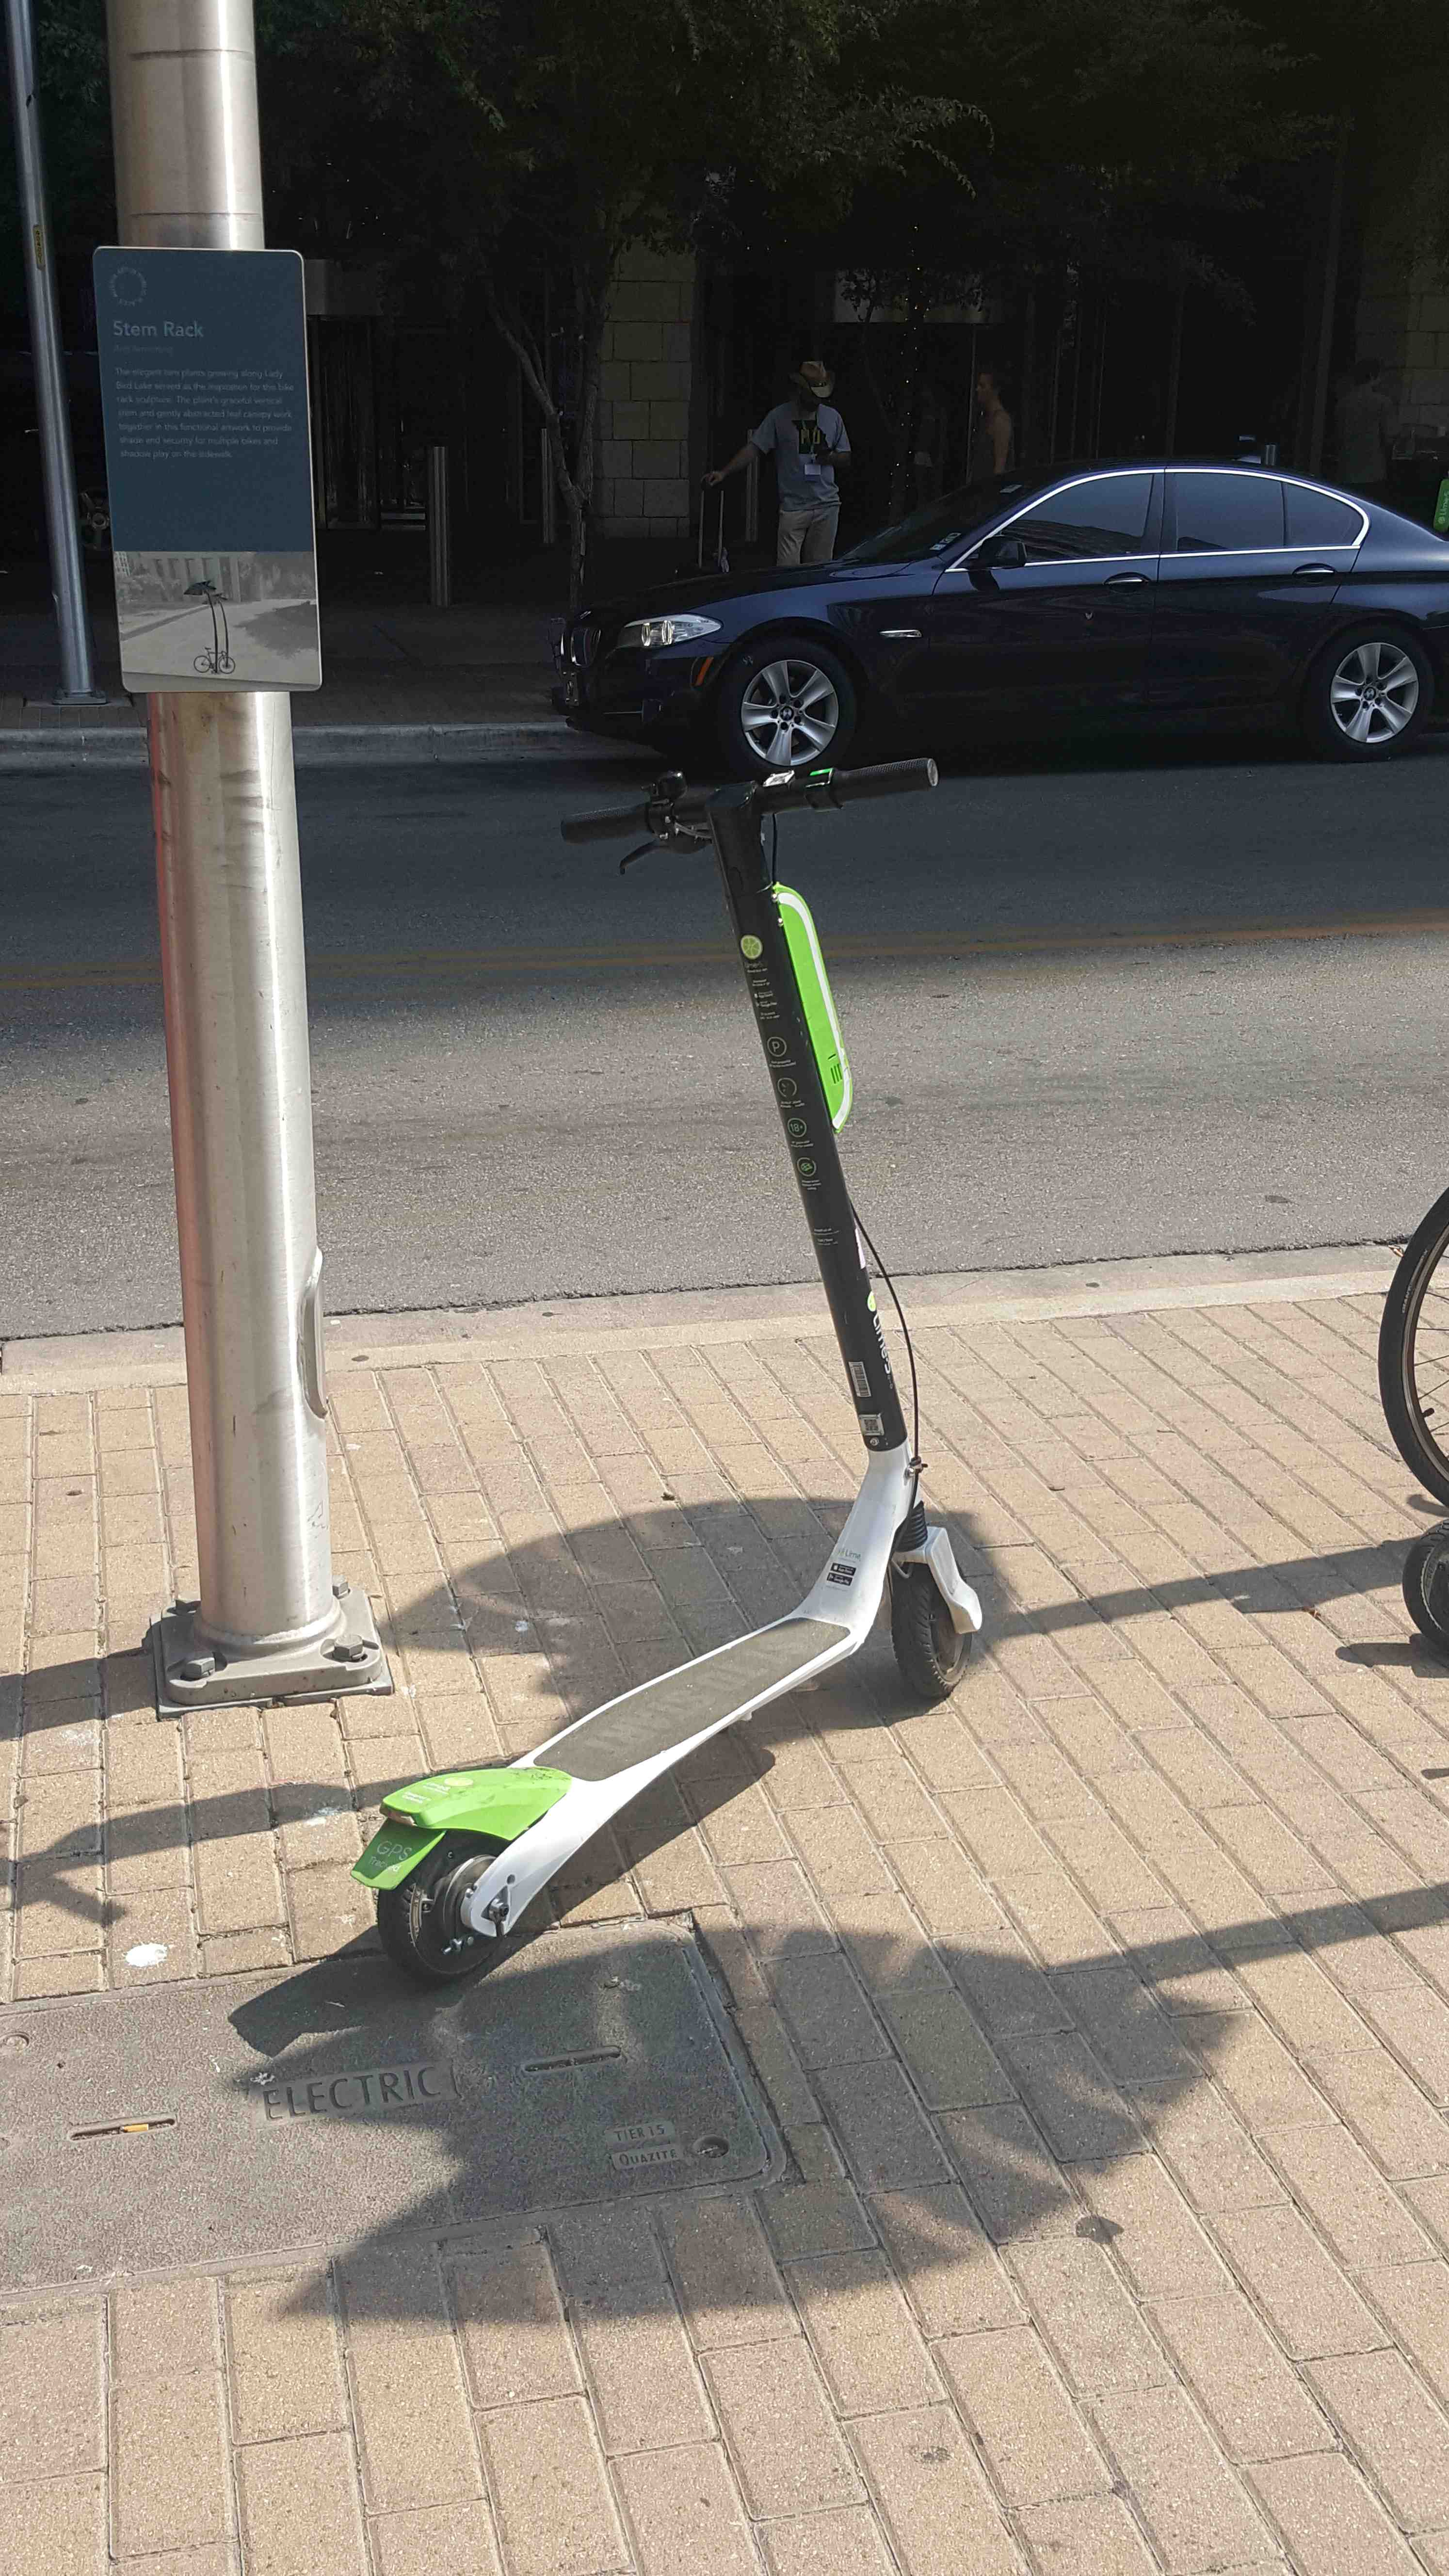scooter: (322, 612, 1024, 2005)
